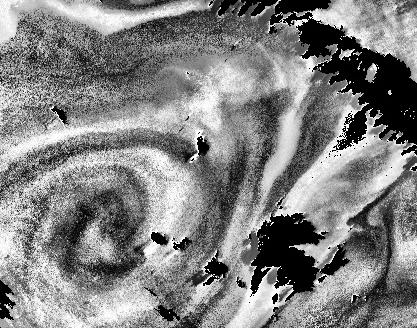AE: (21, 135, 221, 311)
